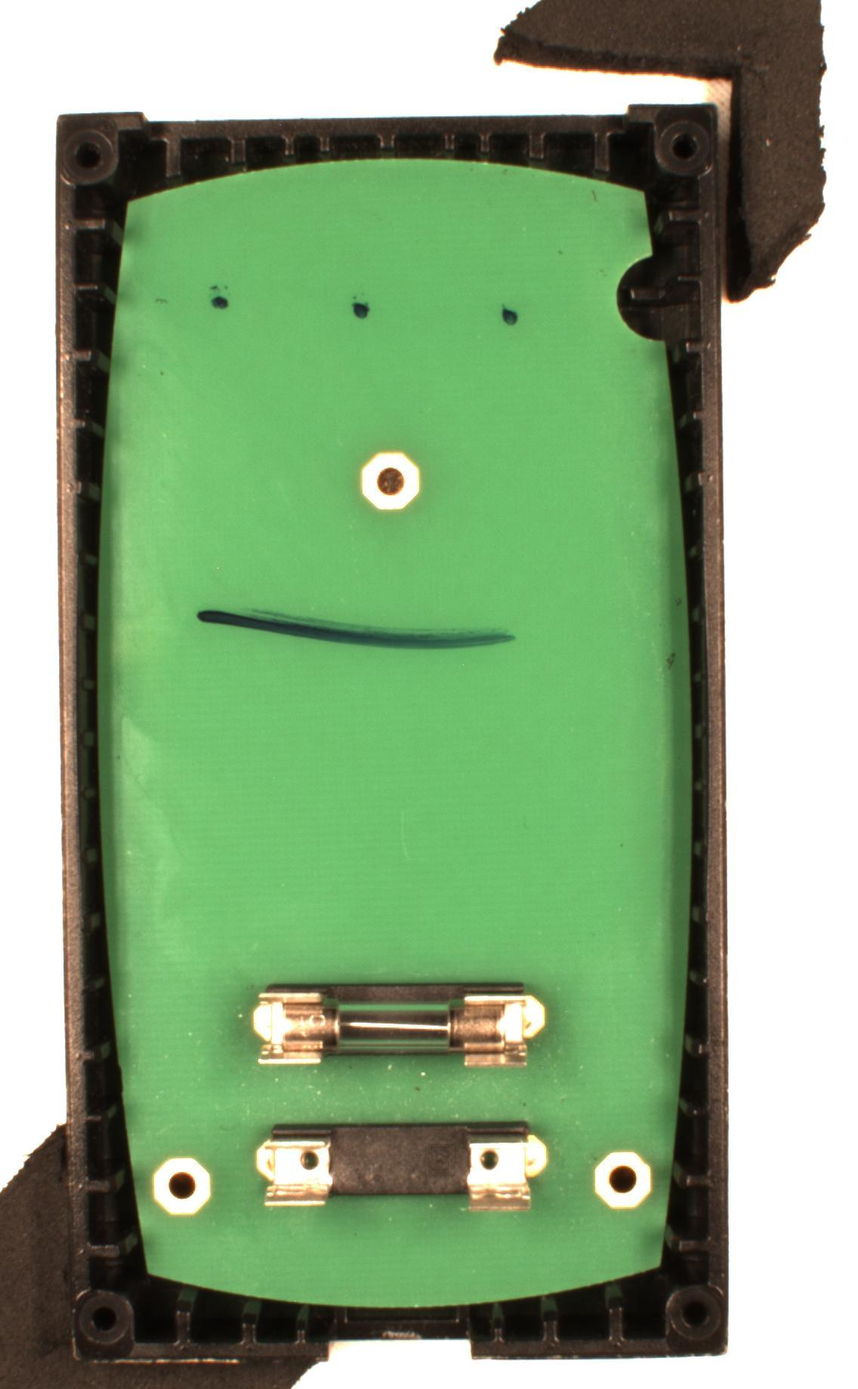Linijsko Ostecene: (193, 600, 521, 655)
Nepostojanje osiguraca: (255, 1119, 549, 1214)
Tockasto Ostecenje: (206, 292, 236, 315), (496, 303, 525, 326), (350, 298, 374, 319)
